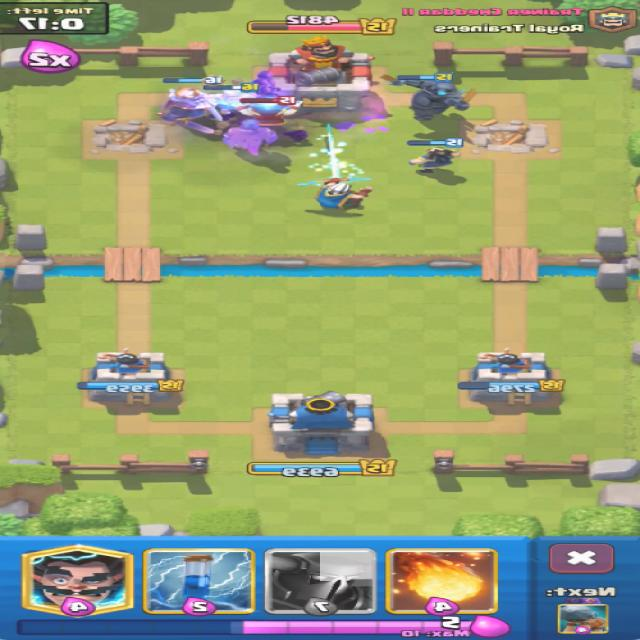Enemy-ElectroWizard: (236, 102, 303, 126)
Enemy-KingTower-Activated: (269, 36, 372, 115)
